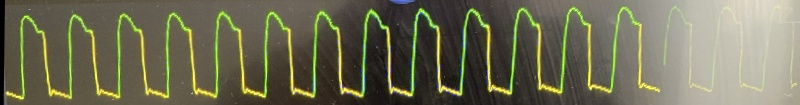normal_pressure: (11, 1, 681, 105)
